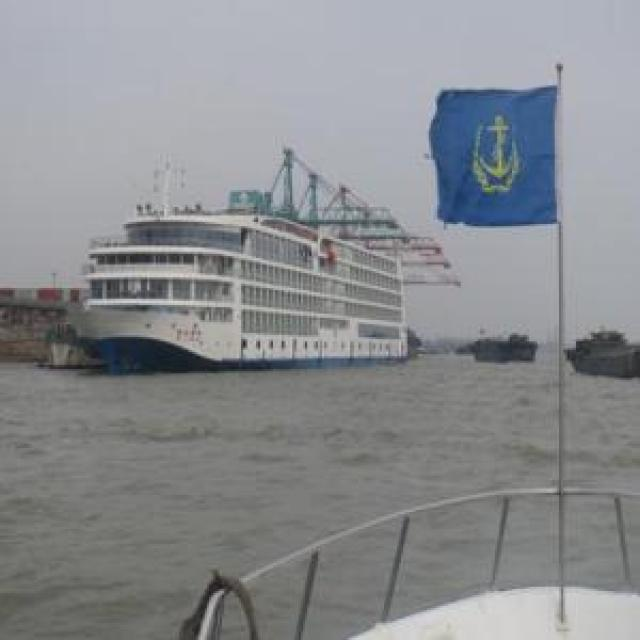passenger ship: (85, 189, 421, 372)
